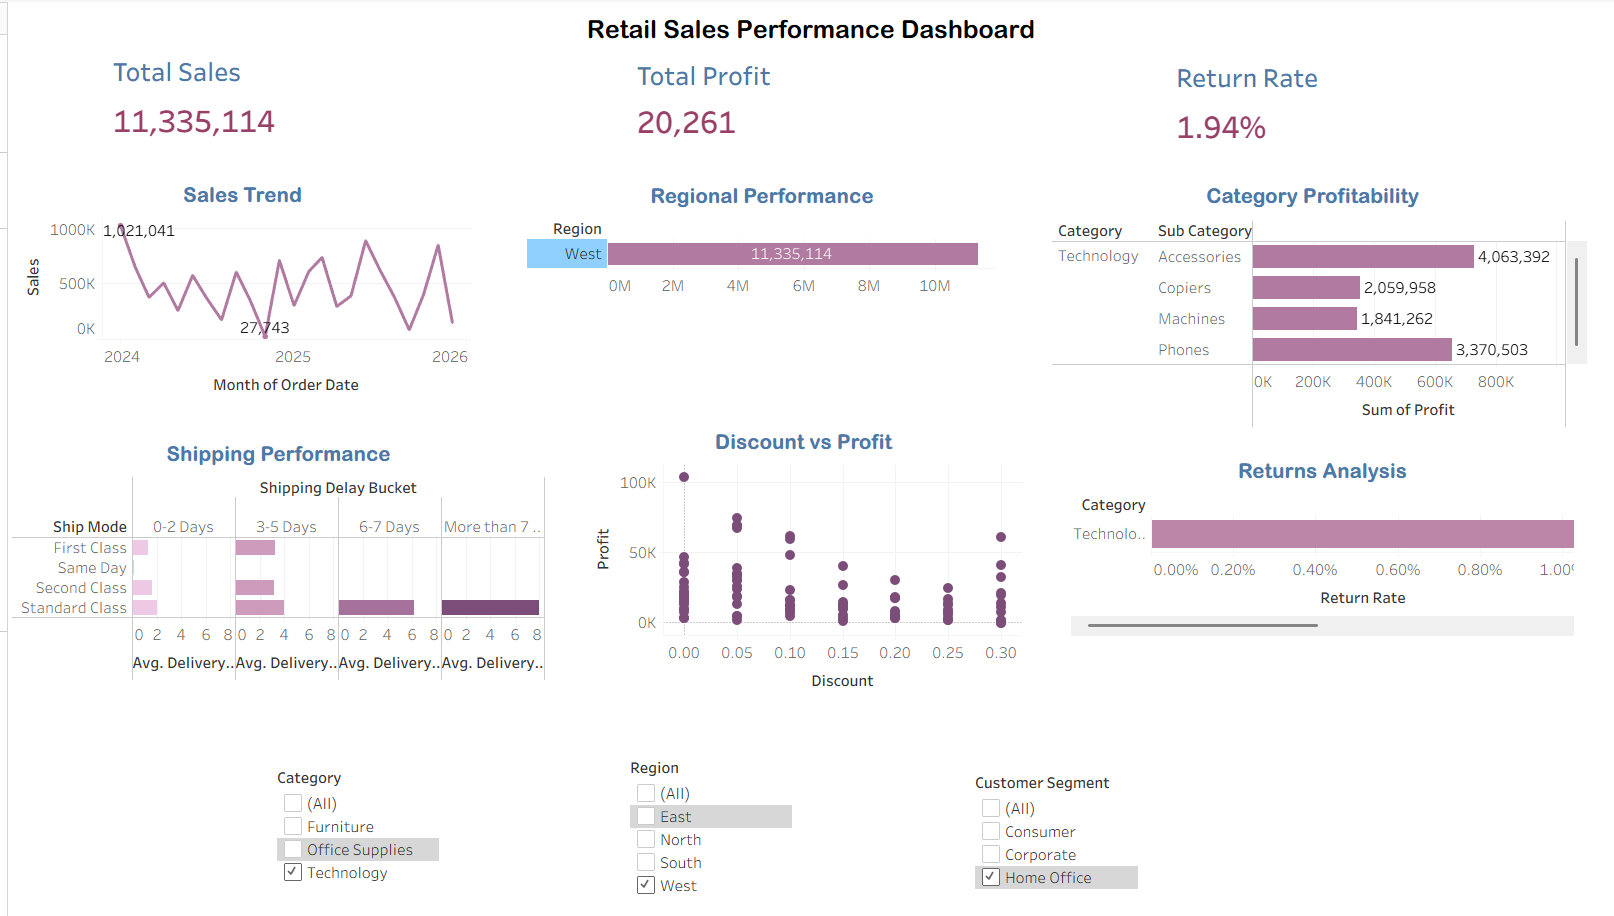

What the dashboard file says about the page in this screenshot:
{"tool":"tableau","page":{"name":"Executive Dashboard","canvas":[1000,1000],"units":"permille","ordinal":0},"visuals":[{"type":"title","box":[4.8,8.7,990.3,40.2]},{"type":"worksheet","title":"Total Sales","mark":"Automatic","box":[63.2,52.1,128.2,96.6]},{"type":"worksheet","title":"Total Profit","mark":"Automatic","box":[389.1,56.5,110.5,91.2]},{"type":"worksheet","title":"Return Rate","mark":"Automatic","box":[724.6,58.6,95.4,96.6]},{"type":"worksheet","title":"Category profitability view","mark":"Automatic","rows":["category","sub_category"],"cols":["profit"],"box":[650.1,182.4,333.1,280.1]},{"type":"worksheet","title":"Sales trend view","mark":"Line","rows":["sales"],"cols":["order_date"],"box":[4.4,192.2,283.3,242.1]},{"type":"worksheet","title":"Regional performance view","mark":"Automatic","rows":["region"],"cols":["sales"],"box":[323.2,193.3,292.7,216.1]},{"type":"worksheet","title":"Discount vs profit view","mark":"Circle","rows":["profit"],"cols":["discount"],"box":[359.3,460.4,272.1,295.3]},{"type":"worksheet","title":"Shipping performance view","mark":"Automatic","rows":["ship_mode"],"cols":["Calculation_1001672583729157","delivery_days"],"box":[2.5,473.4,333.1,333.3]},{"type":"worksheet","title":"Return analysis view","mark":"Automatic","rows":["category"],"cols":["vtavg"],"box":[661.9,491.9,313.2,266]},{"type":"filter","title":"Regional performance view","param":"[federated.1gli4zn1jhiqjy1e2p4e51q9hy4m].[none:region:nk]","box":[387.3,819.8,100.9,155.3]},{"type":"filter","title":"Category profitability view","param":"[federated.1gli4zn1jhiqjy1e2p4e51q9hy4m].[none:category:nk]","box":[167.5,830.6,100.9,130.3]},{"type":"filter","title":"Return analysis view","param":"[federated.1gli4zn1jhiqjy1e2p4e51q9hy4m].[none:customer_segment:nk]","box":[602.1,836.1,101.5,130.3]}]}

Visuals, with their boxes on the dashboard's canvas, which has no fixed pixel size, in thousandths of its width and height (x1, y1, x2, y2). These are canvas units, not pixel positions in the 1614x916 screenshot, which may show the page scaled, cropped or inside an application window:
title: box=[5, 9, 995, 49]
"Total Sales" worksheet: box=[63, 52, 191, 149]
"Total Profit" worksheet: box=[389, 56, 500, 148]
"Return Rate" worksheet: box=[725, 59, 820, 155]
"Category profitability view" worksheet: box=[650, 182, 983, 462]
"Sales trend view" worksheet (Line marks): box=[4, 192, 288, 434]
"Regional performance view" worksheet: box=[323, 193, 616, 409]
"Discount vs profit view" worksheet (Circle marks): box=[359, 460, 631, 756]
"Shipping performance view" worksheet: box=[2, 473, 336, 807]
"Return analysis view" worksheet: box=[662, 492, 975, 758]
"Regional performance view" filter: box=[387, 820, 488, 975]
"Category profitability view" filter: box=[168, 831, 268, 961]
"Return analysis view" filter: box=[602, 836, 704, 966]
